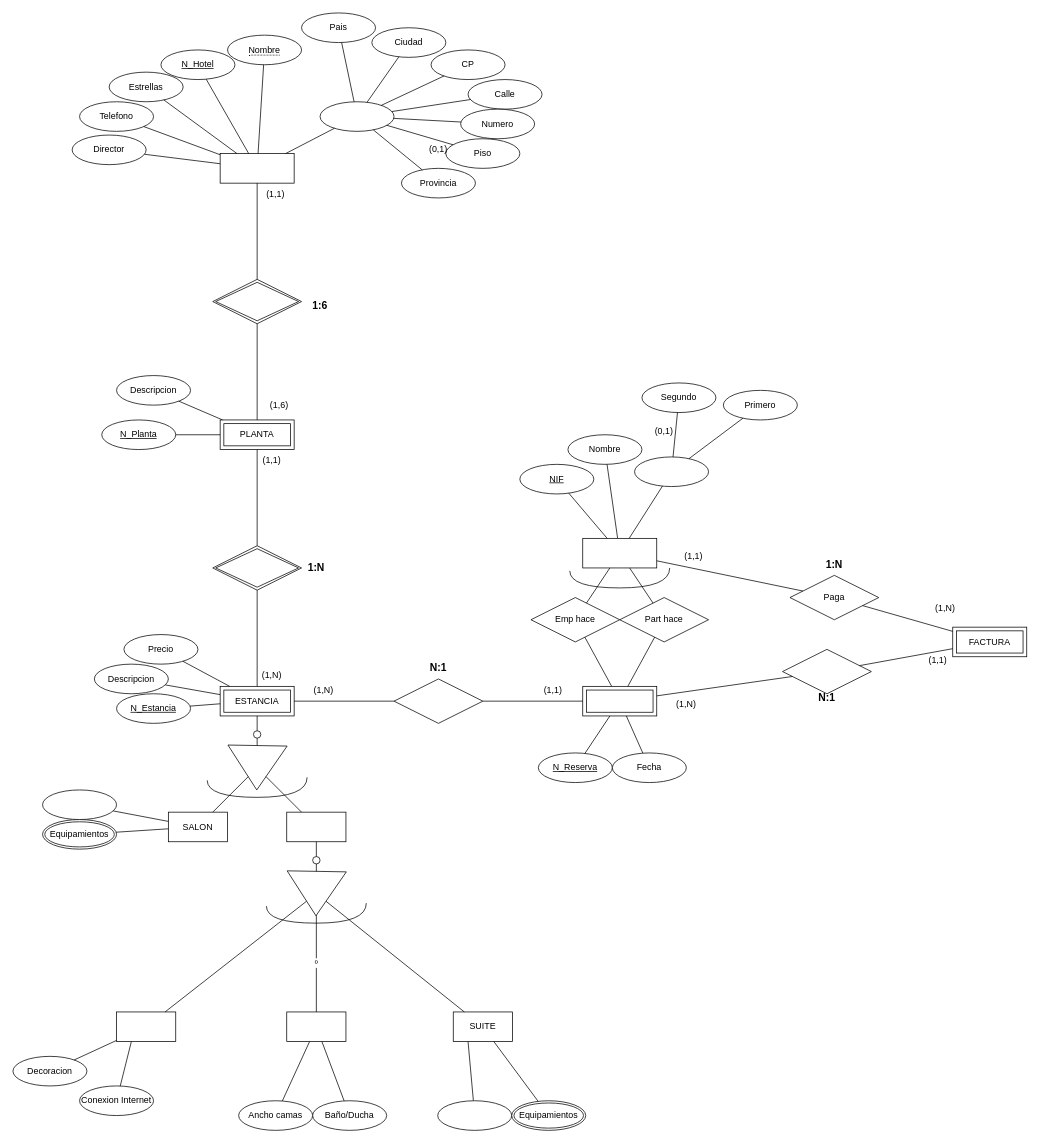
Image size: 1040x1143. Some labels were removed from this diagram. The shapes that lost their labels are listed below. From the top down, each one's centre as x and y in pixels, then its label:
point 356,116: Direccion
point 256,168: HOTEL
point 257,301: Se divide
point 671,471: Apellidos
point 257,567: Se reparten
point 619,553: CLIENTE
point 826,671: Incluye
point 438,700: Selecciona
point 619,701: RESERVA
point 79,804: Aforo
point 316,826: HABITACION
point 146,1026: INDIVIDUAL
point 316,1026: DOBLE
point 474,1115: Metros2
